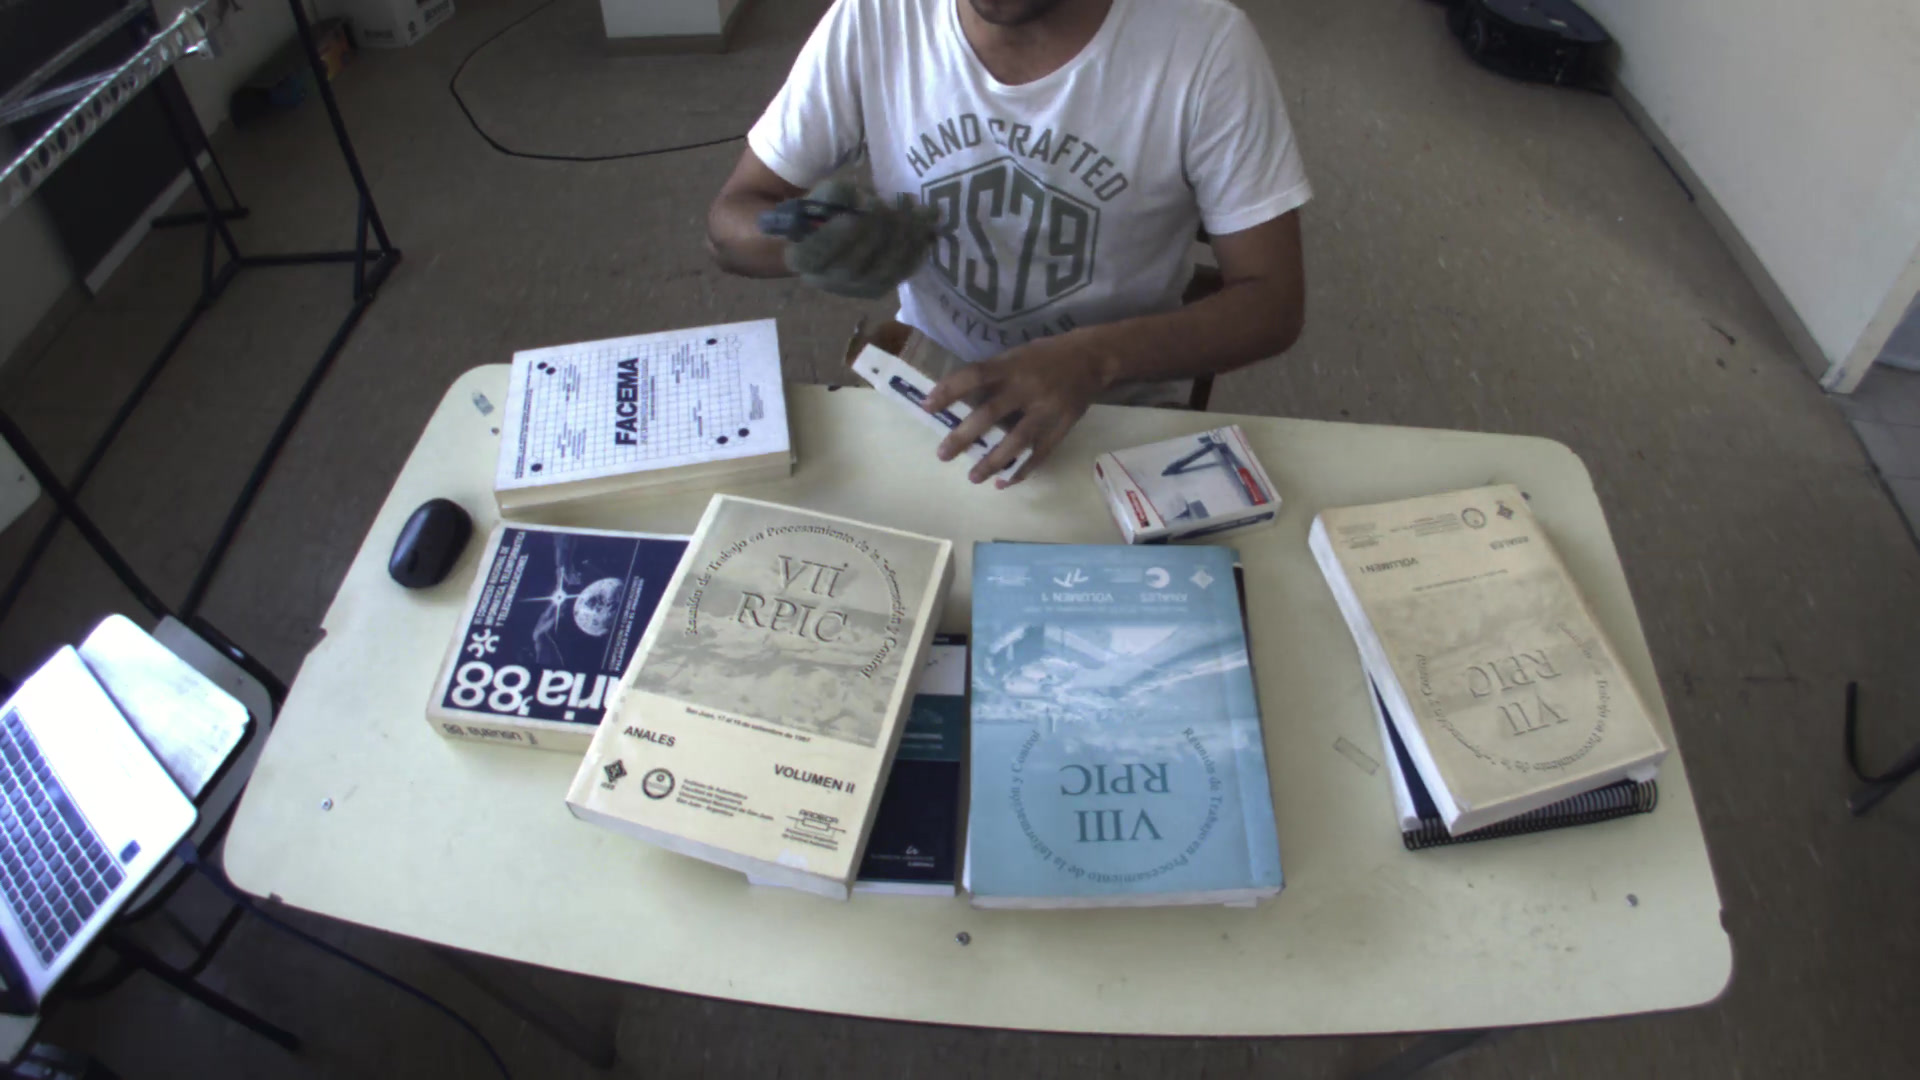hand: (916, 319, 1105, 491), (767, 167, 953, 299)
